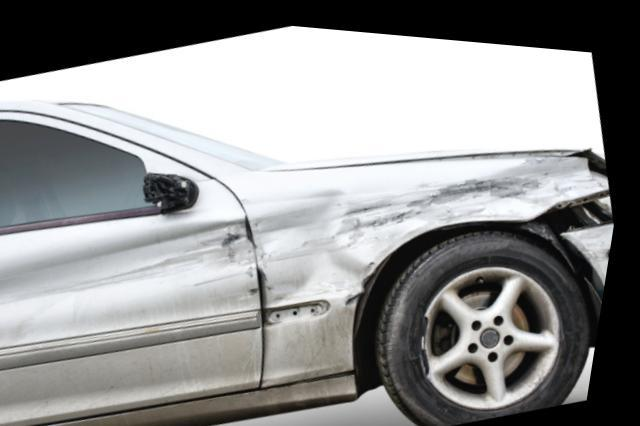dent: (262, 144, 614, 297), (0, 214, 267, 328)
